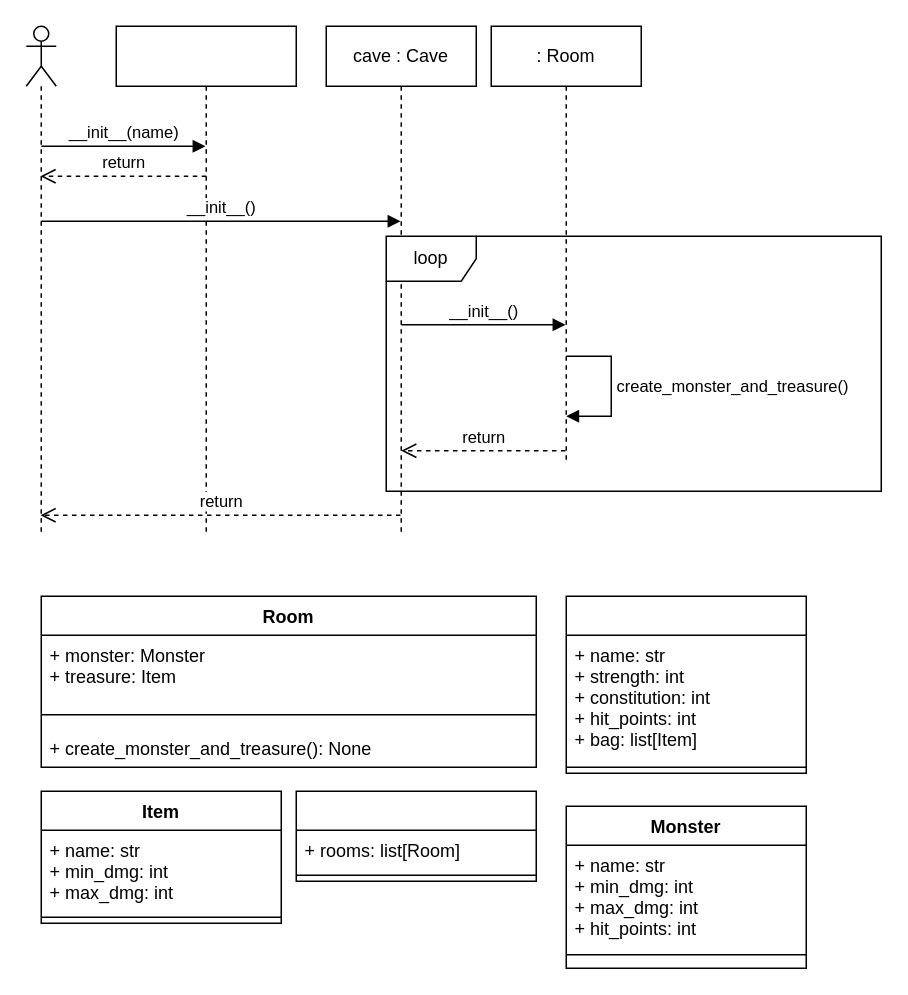
Image size: 908x995. Some labels were removed from this diagram. Each missing label, with the box of its shape:
Adventurer: (565, 595, 806, 773)
Cave: (295, 790, 536, 881)
hero : Adventurer: (115, 25, 296, 536)
